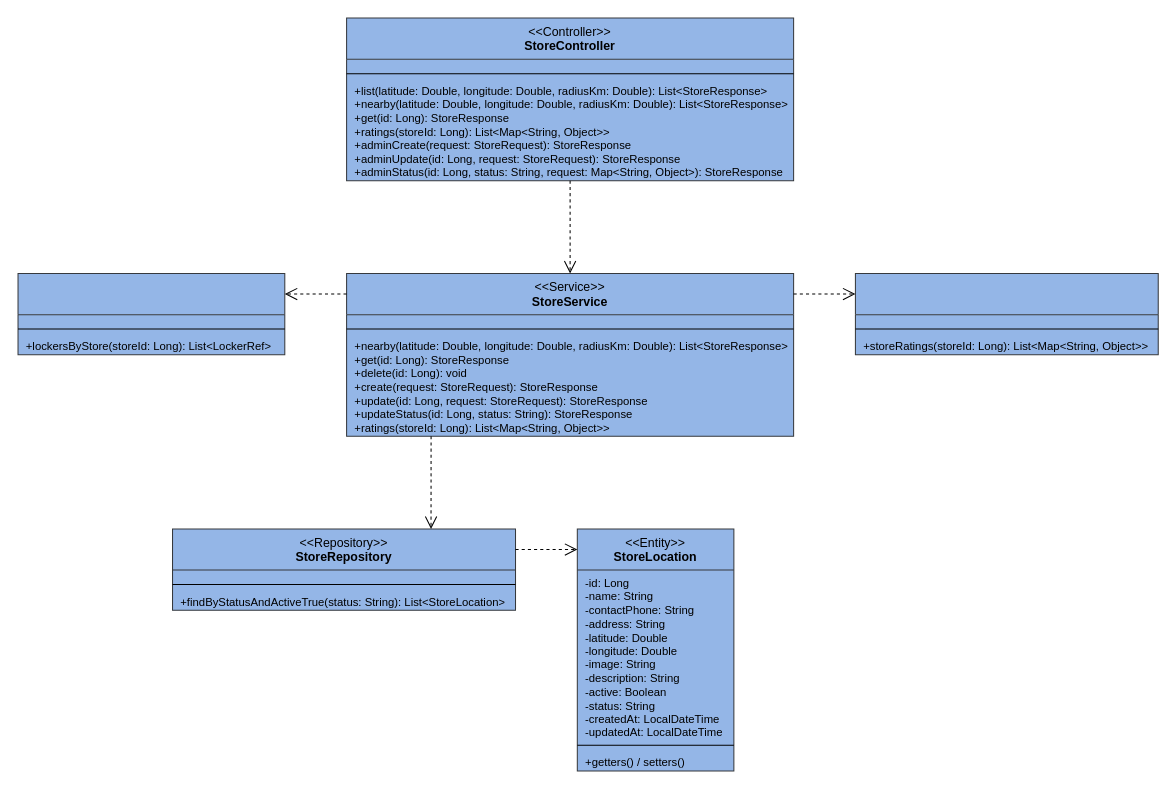
Some shapes in this 1176 by 792 pixel diagram are drawn without their labels. Each missing label, with the box of its shape:
<<FeignClient>> LockerClient: (17, 272, 285, 355)
<<FeignClient>> OrderClient: (854, 272, 1158, 355)
